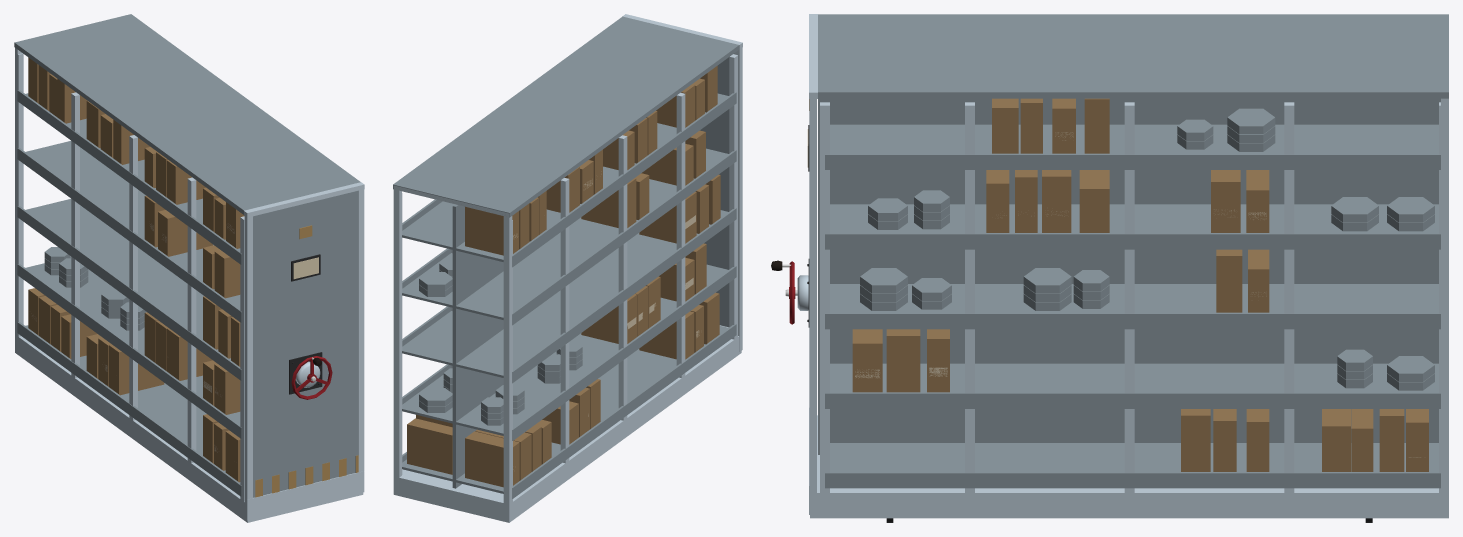
The model's file is carriage_2.glb.
3 views of the same model, side by side, from view 1: azimuth 30°, elevation 25°; view 2: azimuth 150°, elevation 25°; view 3: azimuth 270°, elevation 25° (orthographic). The views are drawn at different scales.
Visible parts, largest first — view 1: carriage_body, IA_crank, end_tag; view 2: carriage_body; view 3: carriage_body.
Part boxes in pixels (left/top/right/bottom): carriage_body: left=14, top=14, right=364, bottom=522; IA_crank: left=291, top=356, right=332, bottom=399; end_tag: left=293, top=257, right=318, bottom=279; carriage_body: left=393, top=14, right=742, bottom=522; carriage_body: left=795, top=14, right=1448, bottom=522.
Size of the model in its own units: 0.932 by 2.45 by 3.4.
